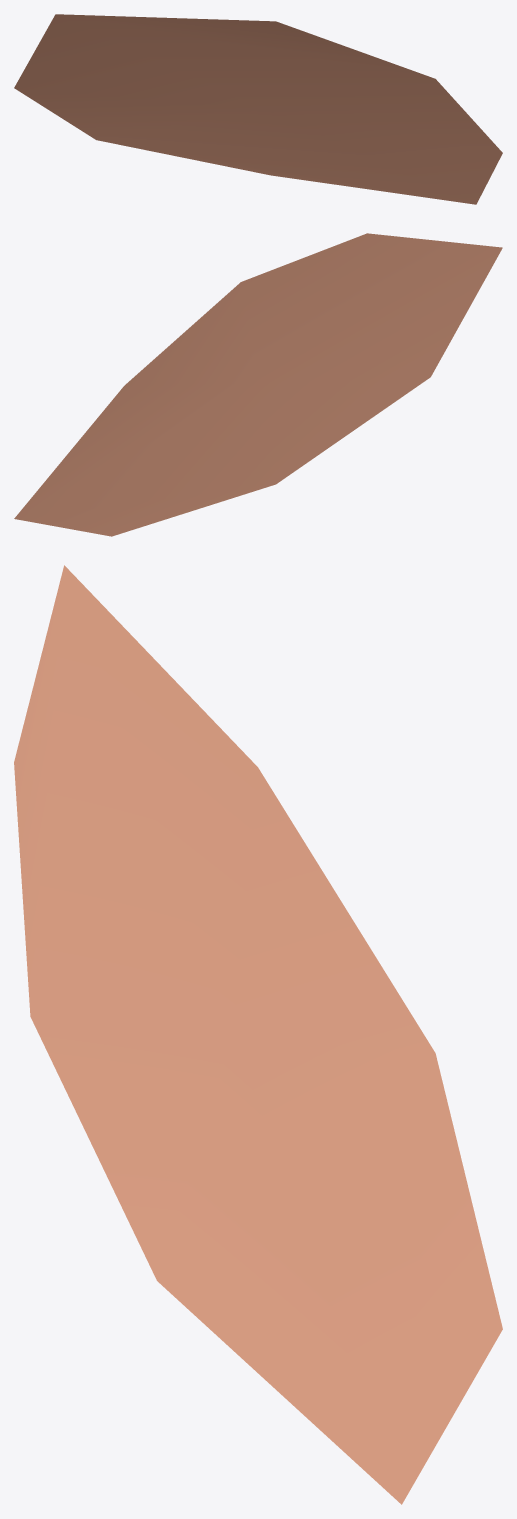
The model's file is superior-parathyroid-gland-r.glb.
3 renders of one model, top to bottom at view 1: azimuth 30°, elevation 25°; view 2: azimuth 150°, elevation 25°; view 3: azimuth 270°, elevation 25°, orthographic. The views are drawn at different scales.
Parts seen in each view (by area): view 1: Superior parathyroid gland.r; view 2: Superior parathyroid gland.r; view 3: Superior parathyroid gland.r.
Part boxes in pixels (<box>): Superior parathyroid gland.r: <box>14,14,502,204</box>; Superior parathyroid gland.r: <box>14,233,502,536</box>; Superior parathyroid gland.r: <box>14,565,502,1504</box>.
Bounding box in the file's own units: 0.00442 × 0.0032 × 0.00248.
